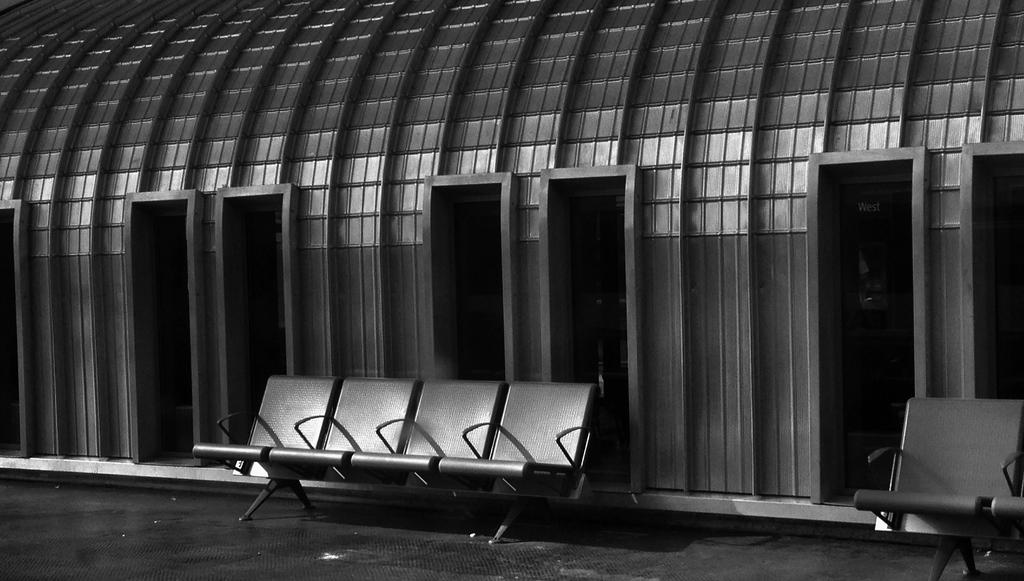Chair: (863, 382, 1021, 575), (433, 378, 605, 511), (342, 378, 515, 482), (189, 373, 340, 477), (260, 382, 421, 478)
